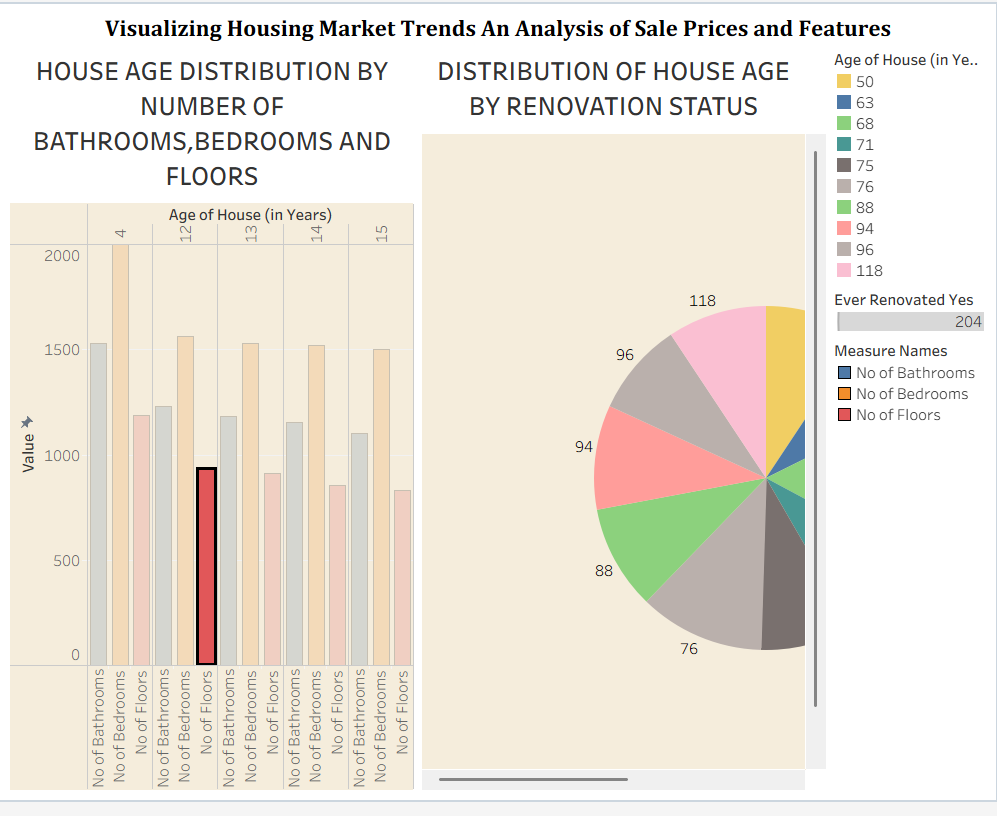

The page's visual inventory and layout, read from the dashboard file:
{"tool":"tableau","page":{"name":"Dashboard 2","canvas":[1000,800],"ordinal":1},"visuals":[{"type":"title","box":[8,8,984,35]},{"type":"worksheet","title":"Sheet 4","mark":"Automatic","cols":["Age of House (in Years)"],"box":[8,43,412,749]},{"type":"worksheet","title":"Sheet 3","mark":"Pie","box":[420,43,412,749]},{"type":"legend","title":"Sheet 3","param":"[federated.0ei5nby0j64o5r172oxqs13wyyw1].[none:Age of House (in Years):ok]","box":[832,43,160,240]},{"type":"legend","title":"Sheet 3","param":"[federated.0ei5nby0j64o5r172oxqs13wyyw1].[sum:Ever_Renovated_Yes:qk]","box":[832,283,160,51]},{"type":"legend","title":"Sheet 4","param":"[federated.0ei5nby0j64o5r172oxqs13wyyw1].[:Measure Names]","box":[832,334,160,93]}]}

Visuals, with their boxes in screenshot pixels (x1, y1, x2, y2), scaled from the page's 1000x800 canvas onto the 997x816 screenshot:
title: box=[8, 8, 989, 44]
"Sheet 4" worksheet: box=[8, 44, 419, 808]
"Sheet 3" worksheet (Pie marks): box=[419, 44, 830, 808]
"Sheet 3" legend: box=[830, 44, 989, 289]
"Sheet 3" legend: box=[830, 289, 989, 341]
"Sheet 4" legend: box=[830, 341, 989, 436]
